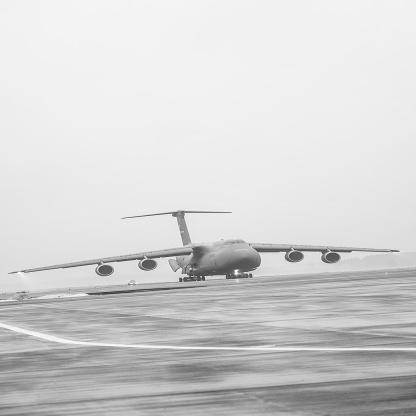C5: (7, 211, 402, 284)
